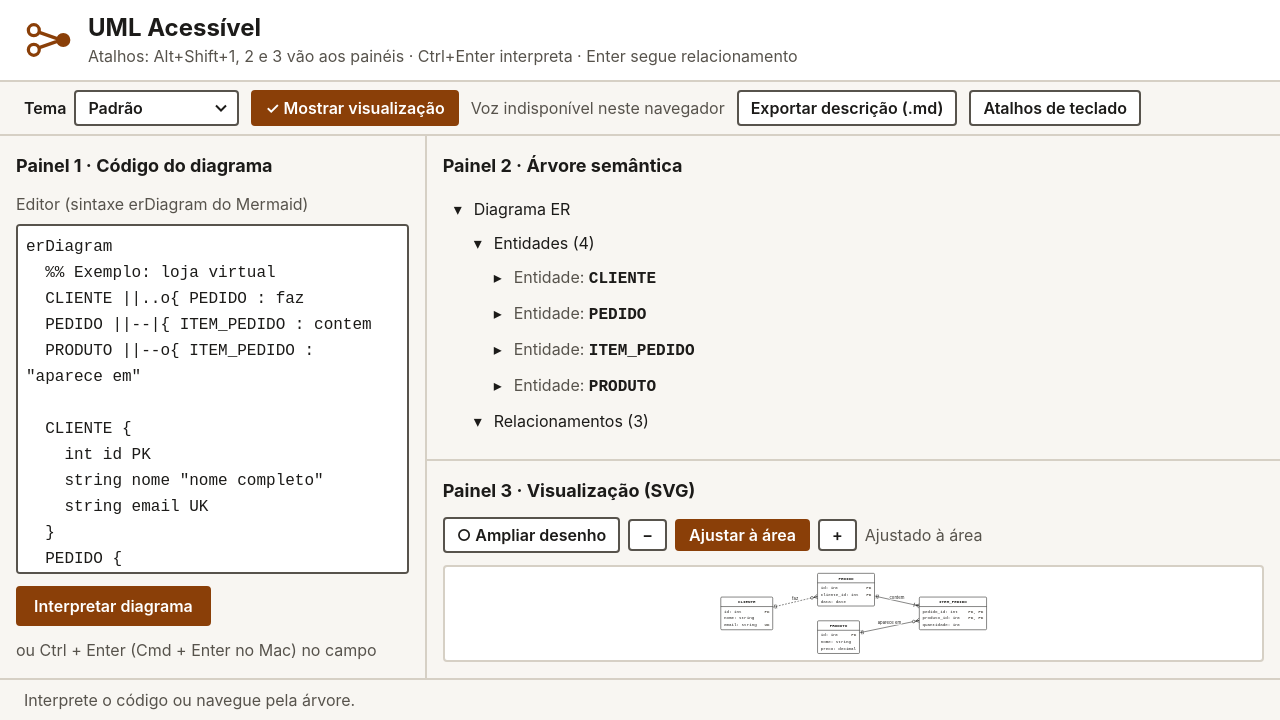
Test case: App › mostra os atalhos num diálogo, em frases contínuas, e devolve o foco ao fechar
Later steps or results of the test are not shown.
Click the button "Atalhos de teclado": (1055, 108) [969, 90, 1141, 126]
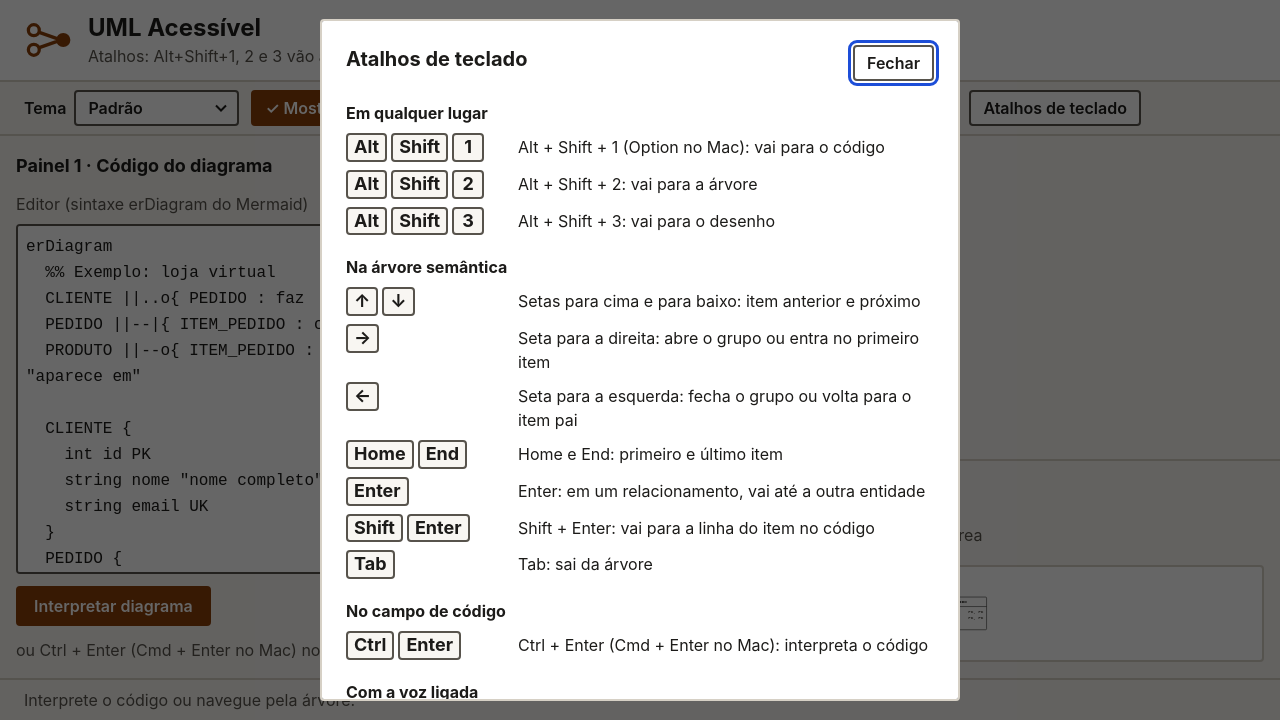
Check: the heading "Na árvore semântica" is shown, box [346, 257, 507, 277]
Check: the heading "No campo de código" is shown, box [346, 601, 506, 621]
Check: the element showing "↑ ↓" is shown, box [346, 287, 415, 316]
